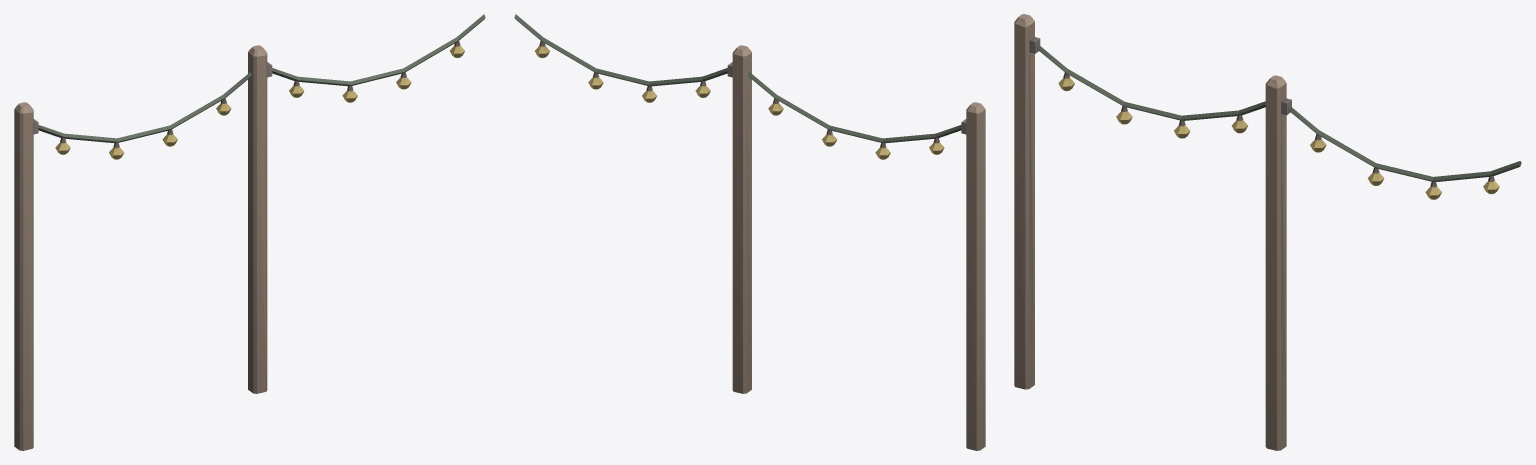
Rendered from lights.glb.
3 renders of one model, left to right at view 1: azimuth 30°, elevation 25°; view 2: azimuth 150°, elevation 25°; view 3: azimuth 330°, elevation 25°, orthographic. The views are drawn at different scales.
Parts seen in each view (by area): view 1: lights; view 2: lights; view 3: lights.
Part boxes in pixels (x1,y1,x2,y2): lights: (14,14,485,450); lights: (514,14,985,450); lights: (1014,14,1521,450).
Size of the model in its own units: 5.4 by 3.78 by 0.162.
